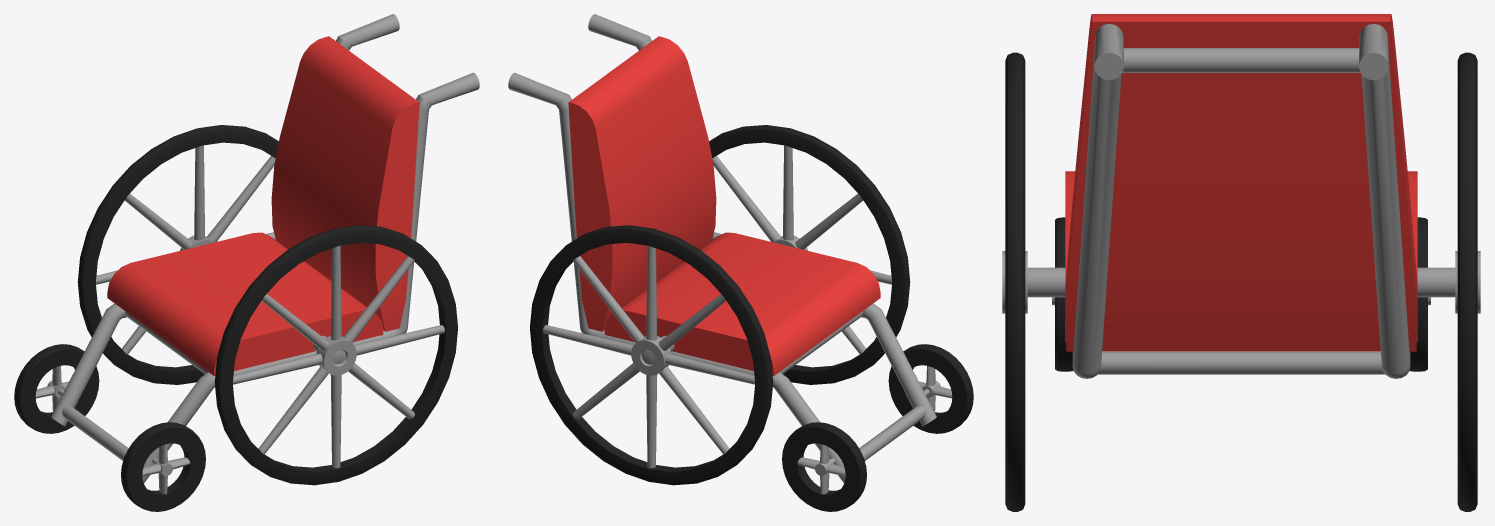
Rendered from manual_wheelchair.glb.
3 renders of one model, left to right at view 1: azimuth 30°, elevation 25°; view 2: azimuth 150°, elevation 25°; view 3: azimuth 270°, elevation 25°, orthographic. The views are drawn at different scales.
Visible parts, largest first — view 1: Cube.737; view 2: Cube.737; view 3: Cube.737.
Boxes of the visible parts, x1,y1,x2,y2 form: Cube.737: (14, 14, 479, 511); Cube.737: (508, 14, 973, 511); Cube.737: (1002, 14, 1480, 511).
Size of the model in its own units: 2.19 by 1.98 by 1.5.
Materials: 1 (1 with a texture image).
